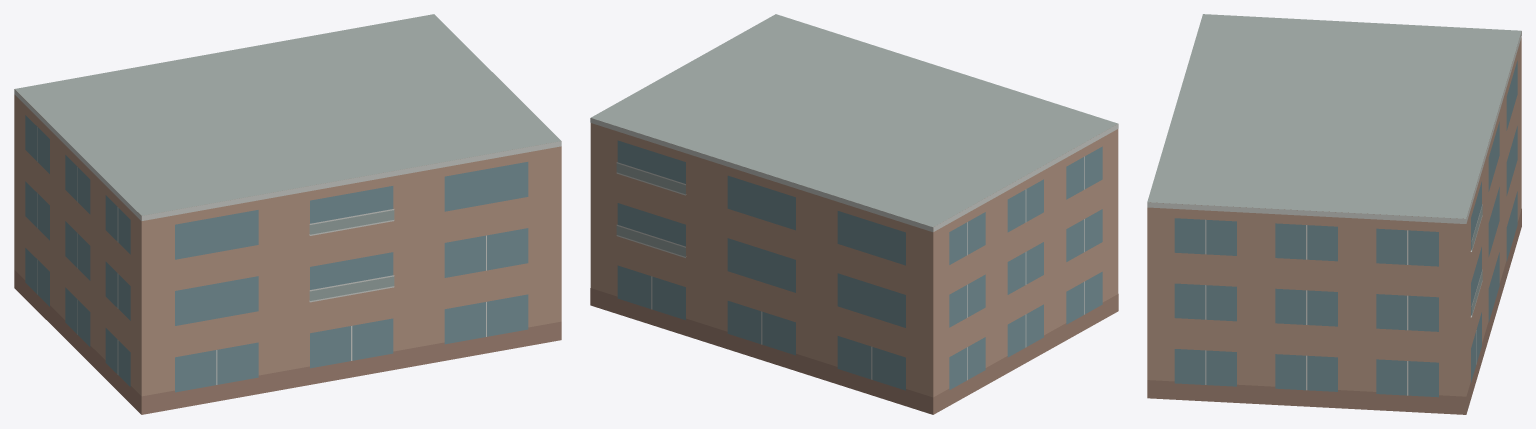
The model's file is survey-upis-32834648.glb.
3 views of the same model, side by side, from view 1: azimuth 30°, elevation 25°; view 2: azimuth 150°, elevation 25°; view 3: azimuth 270°, elevation 25° (orthographic). The views are drawn at different scales.
Parts seen in each view (by area): view 1: survey-upis-32834648.tmp; view 2: survey-upis-32834648.tmp; view 3: survey-upis-32834648.tmp.
Part boxes in pixels (x1,y1,x2,y2): survey-upis-32834648.tmp: (14, 14, 561, 414); survey-upis-32834648.tmp: (590, 14, 1118, 414); survey-upis-32834648.tmp: (1147, 14, 1521, 414).
Bounding box in the file's own units: 20.53 × 9.15 × 15.86.
